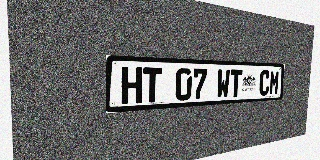0: (175, 68, 192, 101)
7: (192, 68, 207, 100)
C: (259, 70, 270, 96)
H: (121, 67, 142, 104)
M: (269, 70, 280, 95)
T: (143, 67, 162, 103), (229, 69, 243, 98)
W: (216, 69, 230, 98)
